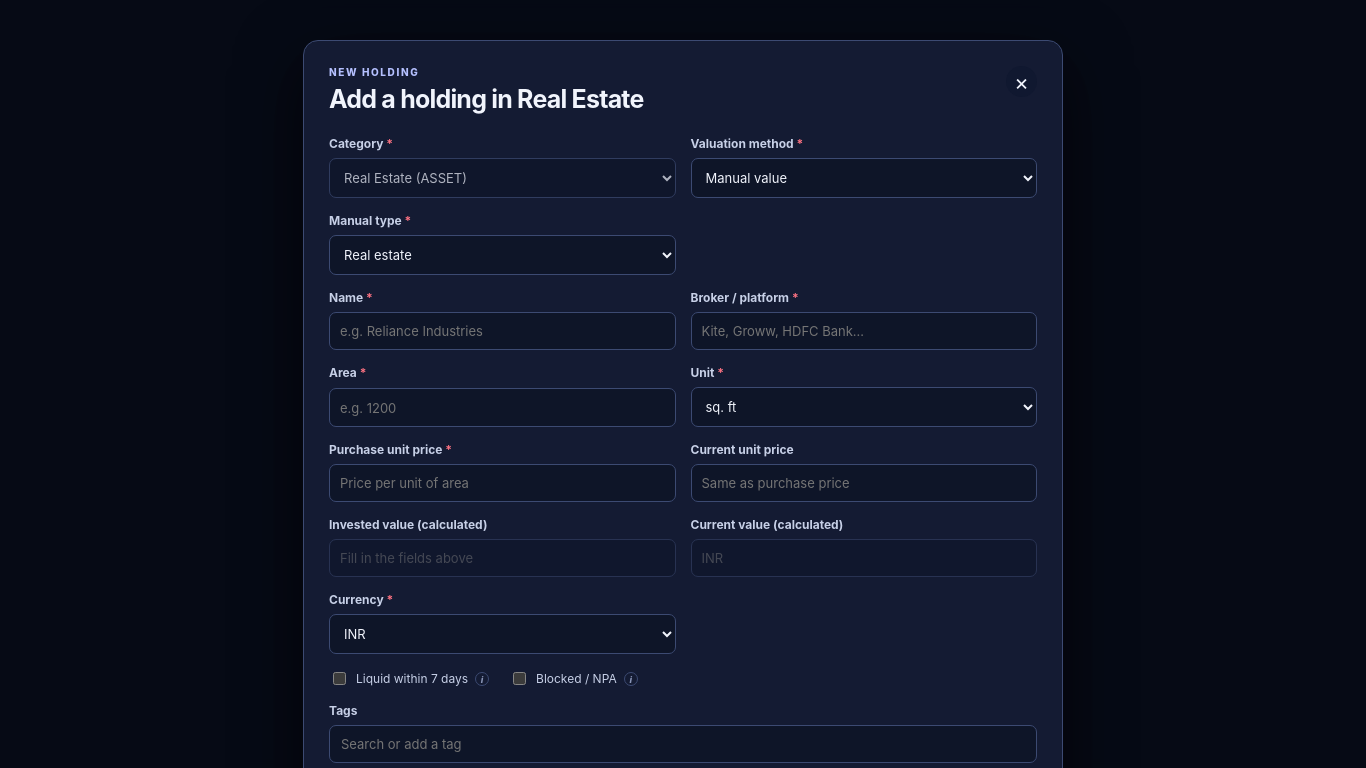
Test case: HoldingModal — manual types › Add holding stays disabled until the unit price is filled in
Type "10" into the number field labelled "Area *" at coordinates (502, 408), box [329, 388, 676, 427]
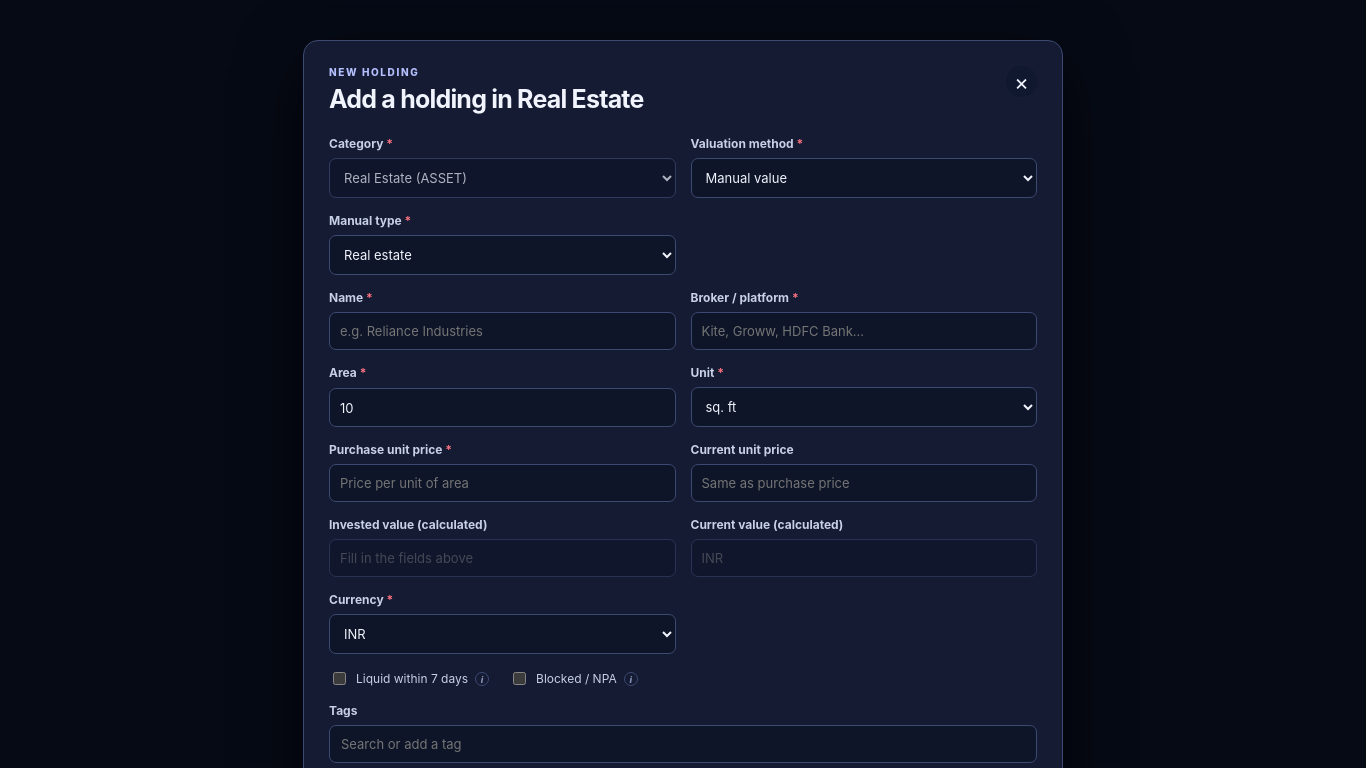
Type "Plot" into the field labelled "Name *" at coordinates (502, 331), box [329, 312, 676, 350]
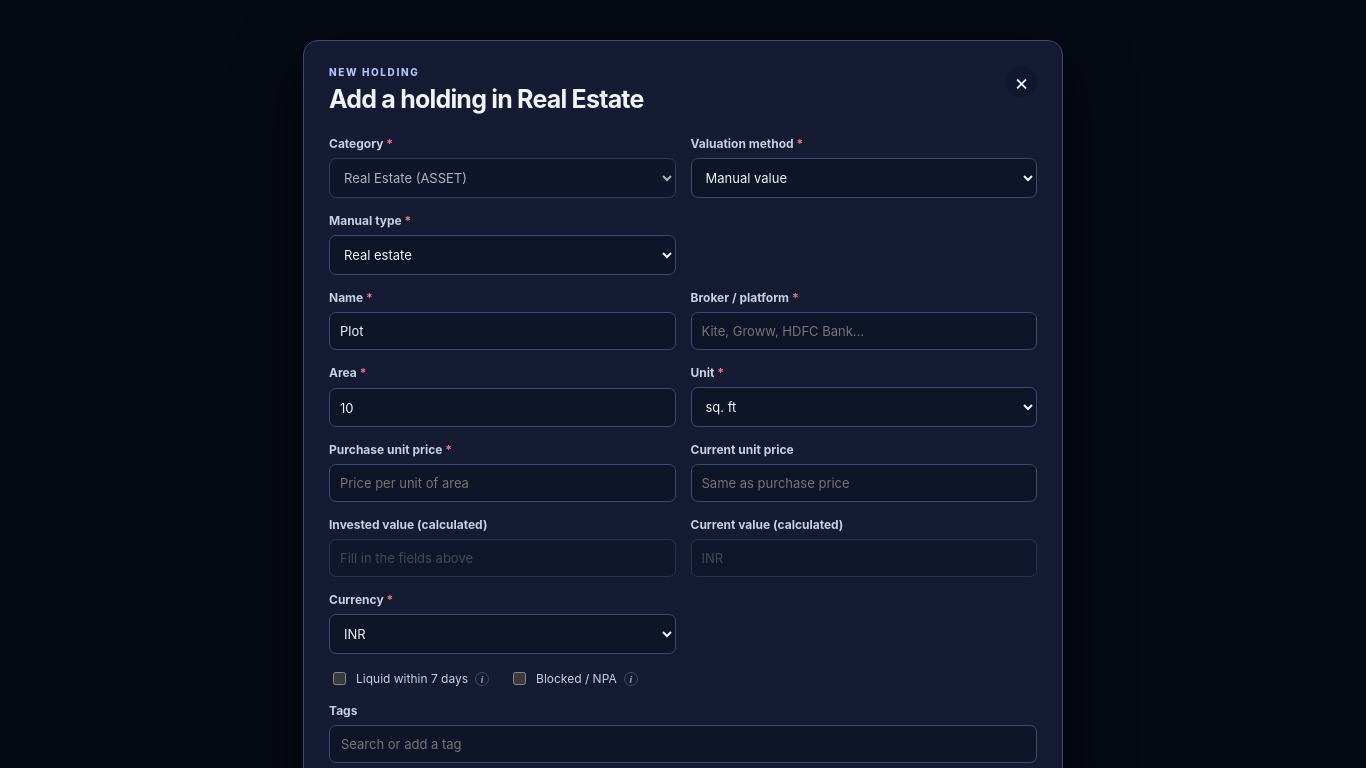
Type "Self" into the field labelled "Broker / platform *" at coordinates (864, 331), box [690, 312, 1037, 350]
(page scrolled)
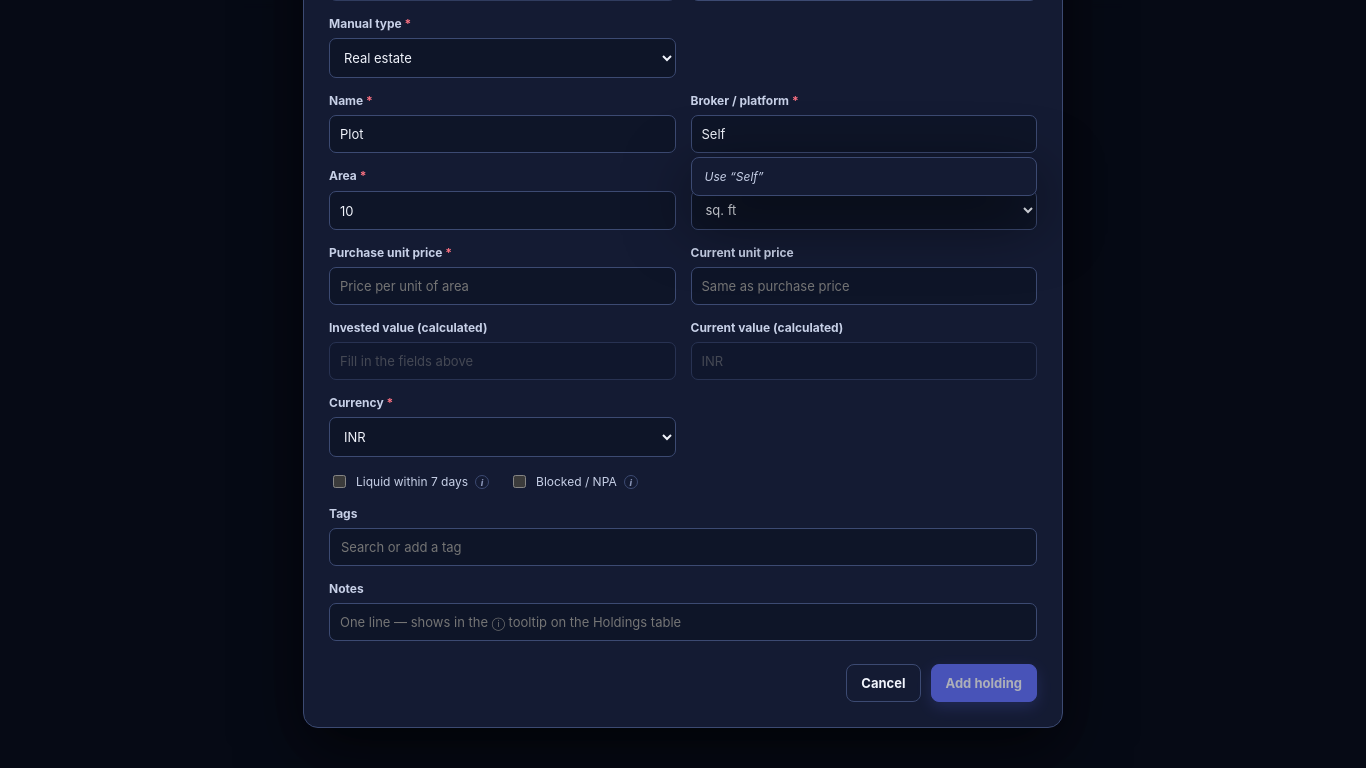
Expected: the button "Add holding" is disabled, [930, 664, 1037, 702]
